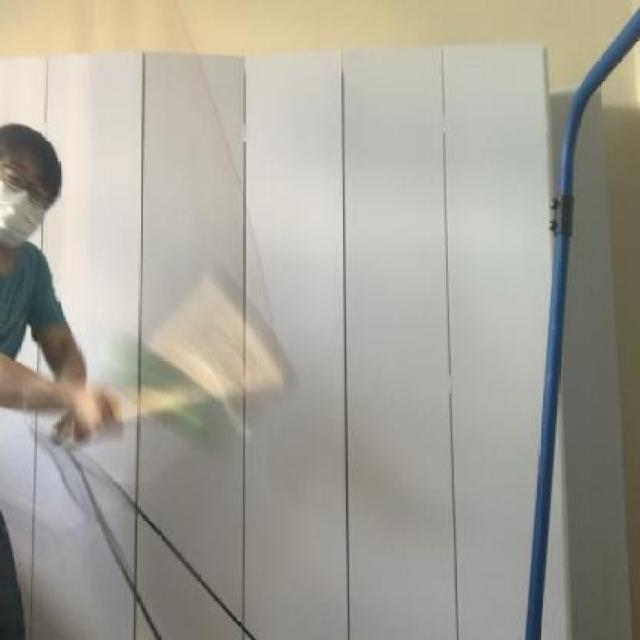baseball: (101, 320, 252, 465)
